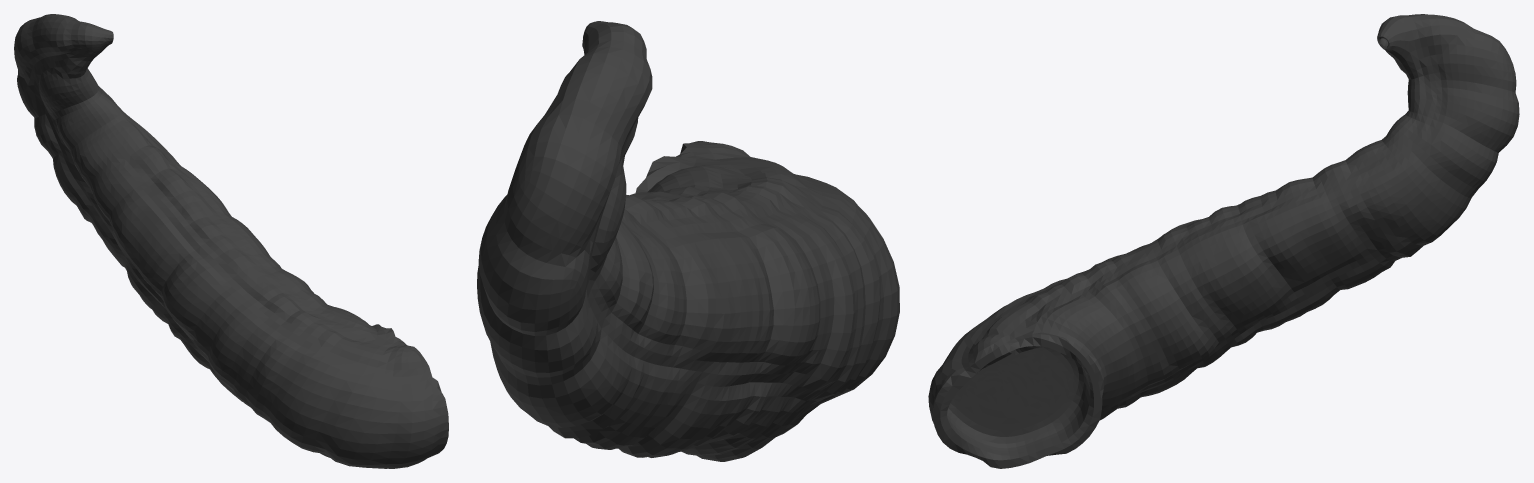
Rendered from R_ventral_colon.glb.
The picture shows the model from 3 angles, left to right: view 1: azimuth 30°, elevation 25°; view 2: azimuth 150°, elevation 25°; view 3: azimuth 270°, elevation 25°; orthographic projection. The views are drawn at different scales.
Parts seen in each view (by area): view 1: R_ventral_colon; view 2: R_ventral_colon; view 3: R_ventral_colon.
Part boxes in pixels (box(x1,y1,x2,y2)): R_ventral_colon: box(14, 14, 448, 468); R_ventral_colon: box(477, 21, 899, 461); R_ventral_colon: box(928, 14, 1519, 468).
Bounding box in the file's own units: 0.4895 × 0.8579 × 1.22.
Materials: 1 (1 with a texture image).
